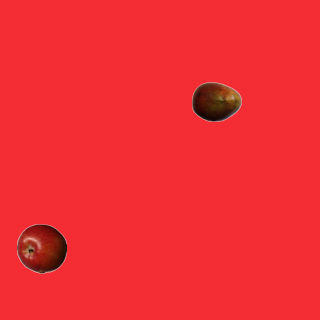Apple Braeburn: (16, 223, 66, 273)
Mango Red: (191, 76, 241, 126)
